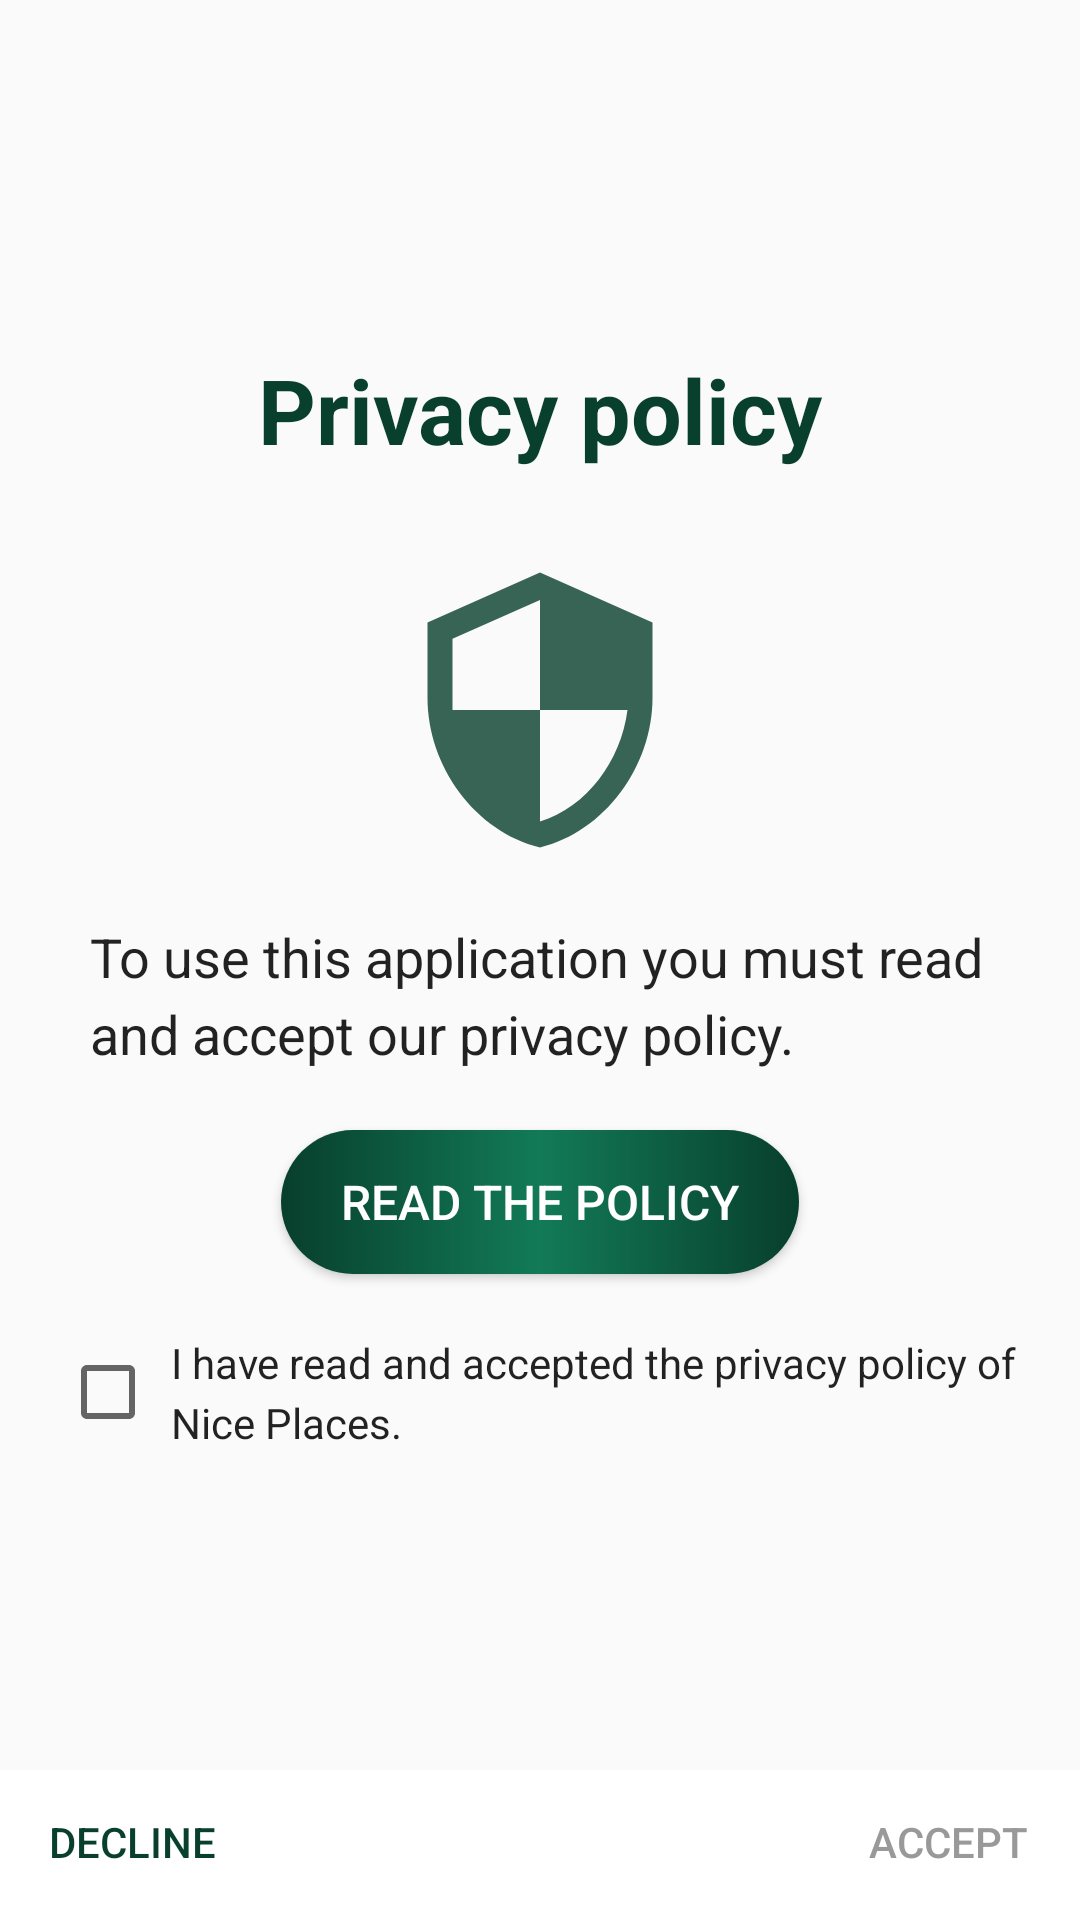

Locate icon controls on the screen. Image size 1080w x 1920h, boxes as (x1, y1, x2, y2).
security: (427, 572, 653, 848)
